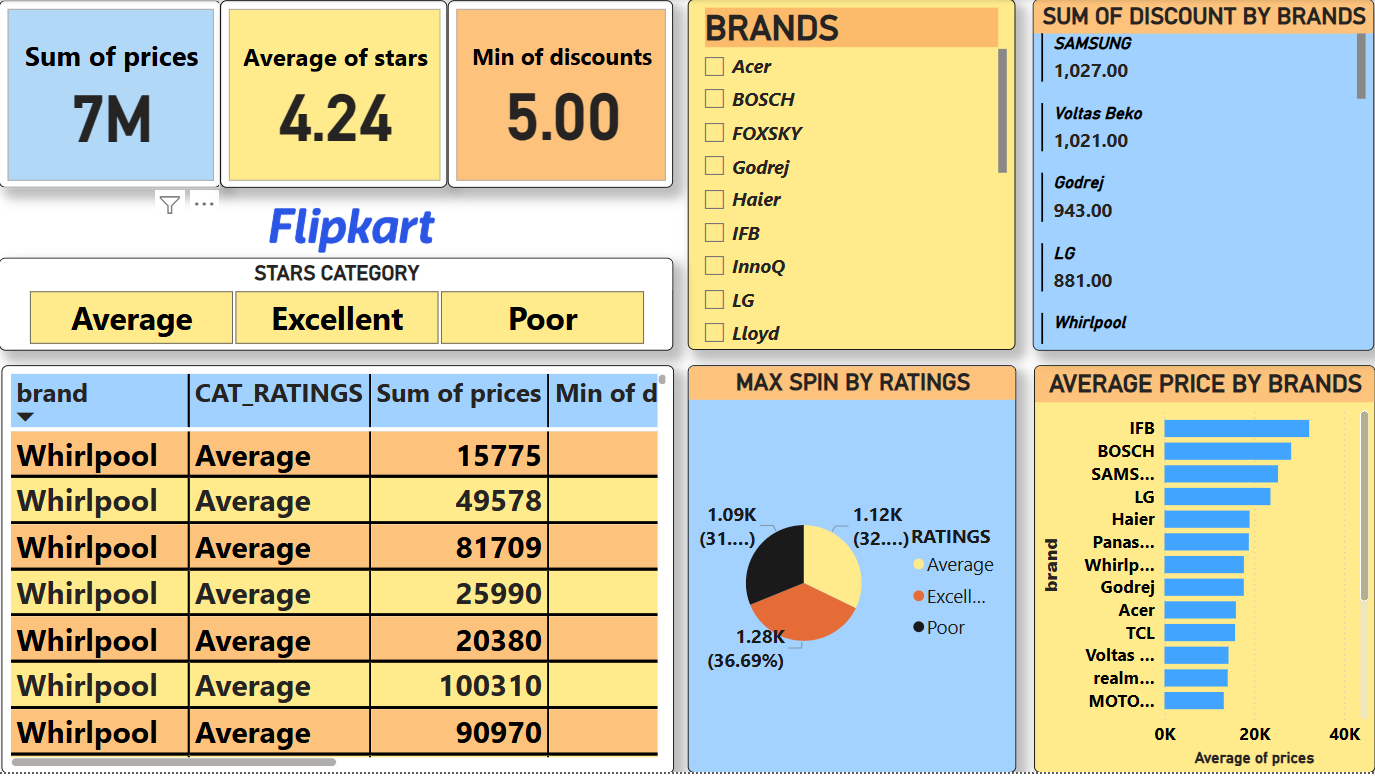

This screenshot's page, from the dashboard's own definition file:
{"tool":"powerbi","page":{"name":"Page 1","canvas":[1280,720],"ordinal":0},"visuals":[{"type":"cardVisual","fields":{"Data":["Sum(flikpart_cleaned_data_for_bi.prices)"]},"box":[0,1.6,206.3,174.6],"z":0},{"type":"cardVisual","fields":{"Data":["Avg(flikpart_cleaned_data_for_bi.stars)"]},"box":[206.3,1.6,211.1,174.6],"z":1000},{"type":"cardVisual","fields":{"Data":["Min(flikpart_cleaned_data_for_bi.discounts)"]},"box":[417.5,1.6,209.5,174.6],"z":2000},{"type":"slicer","fields":{"Values":["flikpart_cleaned_data_for_bi.brand"]},"box":[640.6,0,304.3,326.9],"z":3000},{"type":"slicer","title":"STARS CATEGORY","fields":{"Values":["flikpart_cleaned_data_for_bi.CAT_RATINGS"]},"box":[0,240.8,626.9,86.3],"z":4000},{"type":"tableEx","fields":{"Values":["flikpart_cleaned_data_for_bi.brand","flikpart_cleaned_data_for_bi.CAT_RATINGS","Sum(flikpart_cleaned_data_for_bi.prices)","Min(flikpart_cleaned_data_for_bi.discounts)1","flikpart_cleaned_data_for_bi.max_spin_speed","flikpart_cleaned_data_for_bi.capacity","Avg(flikpart_cleaned_data_for_bi.stars)"]},"box":[1.9,340.2,625.5,379.8],"z":5000},{"type":"actionButton","box":[0,2.8,100,36.1],"z":6000},{"type":"clusteredBarChart","title":"AVERAGE PRICE BY BRANDS","fields":{"Category":["flikpart_cleaned_data_for_bi.brand"],"Y":["Avg(flikpart_cleaned_data_for_bi.prices)"]},"box":[964.3,342.9,316.7,359.5],"z":7000},{"type":"multiRowCard","title":"SUM OF DISCOUNT BY BRANDS","fields":{"Values":["Sum(flikpart_cleaned_data_for_bi.discounts)","flikpart_cleaned_data_for_bi.brand"]},"box":[961.9,0,317.5,326.9],"z":8000},{"type":"image","box":[49.1,189,559.4,51],"z":9000},{"type":"pieChart","title":"MAX SPIN BY RATINGS","fields":{"Series":["flikpart_cleaned_data_for_bi.CAT_RATINGS"],"Y":["Avg(flikpart_cleaned_data_for_bi.max_spin_speed)"]},"box":[640,343.3,305,360],"z":10000}]}

Visuals, with their boxes in screenshot pixels (x1, y1, x2, y2), scaled from the page's 1280x720 canvas onto the 1375x777 screenshot:
cardVisual - Sum(flikpart_cleaned_data_for_bi.prices): box=[0, 2, 222, 190]
cardVisual - Avg(flikpart_cleaned_data_for_bi.stars): box=[222, 2, 448, 190]
cardVisual - Min(flikpart_cleaned_data_for_bi.discounts): box=[448, 2, 674, 190]
slicer - flikpart_cleaned_data_for_bi.brand: box=[688, 0, 1015, 353]
"STARS CATEGORY" slicer: box=[0, 260, 673, 353]
tableEx - flikpart_cleaned_data_for_bi.brand x flikpart_cleaned_data_for_bi.CAT_RATINGS: box=[2, 367, 674, 776]
actionButton: box=[0, 3, 107, 42]
"AVERAGE PRICE BY BRANDS" clusteredBarChart: box=[1036, 370, 1374, 758]
"SUM OF DISCOUNT BY BRANDS" multiRowCard: box=[1033, 0, 1374, 353]
image: box=[53, 204, 654, 259]
"MAX SPIN BY RATINGS" pieChart: box=[688, 370, 1015, 759]
